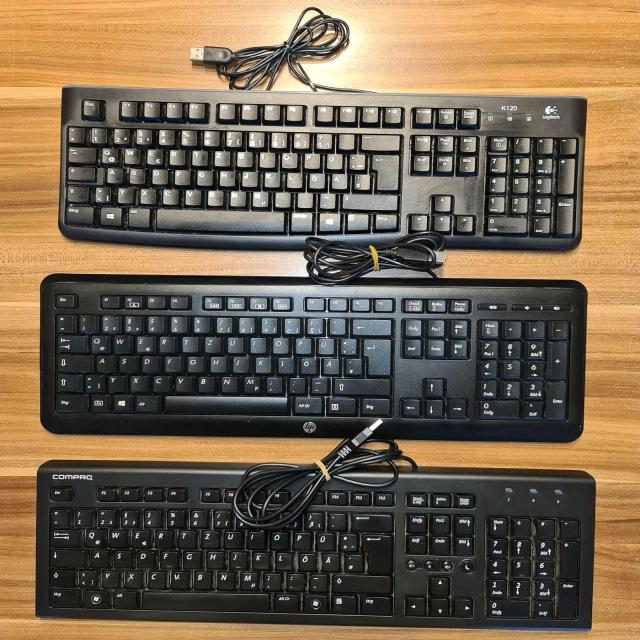0: (283, 318, 301, 335), (293, 133, 310, 149)
1: (74, 509, 93, 528), (78, 314, 96, 332), (90, 127, 107, 144)
2: (97, 509, 116, 528), (101, 315, 119, 333), (112, 128, 130, 145)
3: (121, 508, 139, 527), (123, 315, 142, 333), (135, 129, 153, 146)
4: (143, 509, 162, 527), (147, 315, 165, 333), (158, 129, 175, 146)
5: (167, 509, 186, 528), (170, 315, 188, 333), (180, 129, 198, 146)
6: (190, 510, 209, 527), (203, 130, 221, 147), (191, 314, 208, 332)
7: (215, 317, 233, 334), (225, 132, 243, 149), (212, 511, 230, 527)
8: (236, 510, 255, 528), (236, 315, 253, 333), (247, 132, 264, 148)
9: (261, 316, 278, 334), (271, 132, 288, 148)
a: (90, 549, 109, 567), (96, 355, 113, 372), (106, 167, 123, 183)
accent: (327, 512, 347, 531), (338, 133, 356, 150), (329, 318, 346, 335)
ae: (322, 553, 341, 572), (321, 357, 340, 375), (330, 173, 348, 190)
alt-left: (127, 207, 151, 229), (112, 590, 137, 609), (135, 396, 160, 413)
altgr-right: (293, 397, 324, 415), (289, 212, 314, 233), (273, 594, 299, 613)
b: (191, 569, 210, 588), (197, 376, 216, 394), (206, 190, 223, 206)
c: (145, 569, 164, 587), (151, 376, 170, 393), (162, 189, 179, 205)
caret: (50, 508, 69, 527), (56, 315, 74, 333), (68, 127, 85, 144)
comma: (260, 570, 279, 589), (265, 376, 283, 394), (274, 192, 291, 208)
d: (135, 548, 153, 567), (141, 356, 159, 373), (150, 169, 168, 186)
del: (350, 514, 394, 533), (350, 317, 390, 334), (361, 134, 400, 150)
e: (129, 528, 148, 547), (136, 335, 153, 353), (146, 149, 162, 166)
enter: (360, 534, 394, 574), (361, 339, 392, 378), (371, 154, 401, 191)
f: (158, 549, 176, 567), (164, 356, 181, 373), (174, 169, 191, 186)
g: (183, 550, 201, 569), (196, 170, 214, 187), (187, 356, 204, 373)
h: (206, 550, 224, 569), (218, 170, 236, 187), (210, 356, 227, 373)
hash: (344, 554, 363, 573), (343, 358, 362, 376), (352, 174, 371, 191)
i: (245, 529, 264, 548), (249, 337, 267, 354), (259, 152, 275, 169)
j: (227, 549, 245, 568), (241, 171, 259, 188), (232, 357, 249, 374)
k: (250, 550, 268, 568), (255, 357, 272, 374), (263, 171, 280, 188)
keyboard: (30, 458, 599, 634), (37, 272, 589, 446), (47, 81, 596, 254)
l: (273, 550, 292, 569), (277, 357, 296, 375), (286, 172, 303, 189)
less: (85, 374, 104, 392), (77, 568, 96, 586), (95, 187, 111, 204)
m: (237, 570, 257, 589), (243, 376, 261, 394), (252, 191, 269, 208)
minus: (307, 572, 326, 591), (310, 377, 329, 395), (319, 193, 336, 209)
n: (215, 570, 234, 589), (220, 376, 239, 393), (229, 190, 246, 207)
o: (267, 530, 288, 549), (272, 337, 290, 354), (281, 153, 298, 170)
oe: (298, 552, 317, 571), (299, 357, 317, 375), (308, 173, 326, 190)
p: (290, 530, 309, 549), (294, 338, 311, 355), (304, 153, 320, 170)
plus: (339, 532, 359, 551), (340, 338, 359, 356), (349, 154, 367, 171)
point: (286, 573, 305, 592), (287, 377, 306, 395), (296, 192, 313, 209)
q: (83, 527, 101, 546), (90, 335, 108, 353), (100, 147, 118, 164)
r: (154, 530, 172, 548), (159, 336, 176, 353), (169, 149, 185, 166)
s: (111, 548, 129, 566), (119, 355, 137, 372), (128, 168, 145, 184)
shift-left: (57, 374, 81, 392), (48, 569, 73, 586), (64, 184, 87, 201)
shift-lock: (49, 549, 85, 567), (55, 354, 90, 371), (67, 166, 96, 182)
shift-right: (332, 575, 392, 593), (333, 378, 391, 396), (341, 193, 398, 210)
space: (154, 210, 287, 235), (140, 590, 271, 613), (163, 395, 289, 415)
ss: (303, 511, 323, 530), (304, 318, 323, 335), (315, 133, 332, 149)
strg-left: (49, 589, 80, 608), (65, 206, 95, 225), (55, 395, 86, 412)
strg-right: (360, 398, 392, 416), (361, 596, 391, 615), (373, 214, 397, 232)
t: (177, 530, 196, 548), (191, 150, 208, 167), (181, 336, 198, 353)
tab: (50, 529, 80, 547), (67, 146, 96, 163), (56, 334, 85, 351)
u: (221, 528, 240, 547), (226, 337, 244, 354), (236, 151, 253, 168)
ue: (313, 531, 333, 550), (317, 337, 335, 355), (325, 153, 342, 170)
v: (169, 569, 188, 588), (173, 376, 192, 393), (184, 189, 201, 206)
w: (107, 529, 126, 548), (113, 334, 131, 353), (124, 147, 140, 164)
x: (122, 568, 141, 587), (131, 374, 148, 392), (140, 189, 156, 205)
y: (100, 570, 119, 589), (108, 374, 126, 392), (118, 188, 134, 204)
z: (198, 528, 217, 546), (204, 336, 221, 353), (214, 151, 230, 168)
